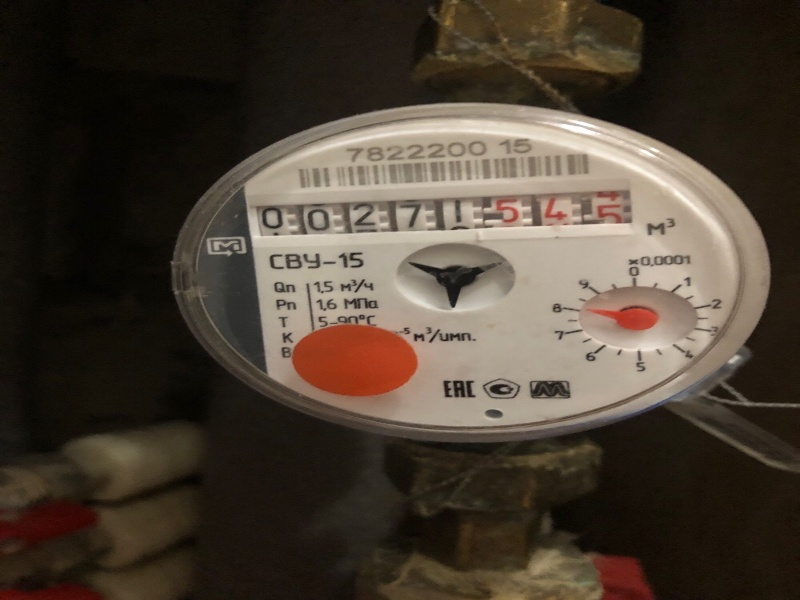dial: (244, 192, 632, 240)
